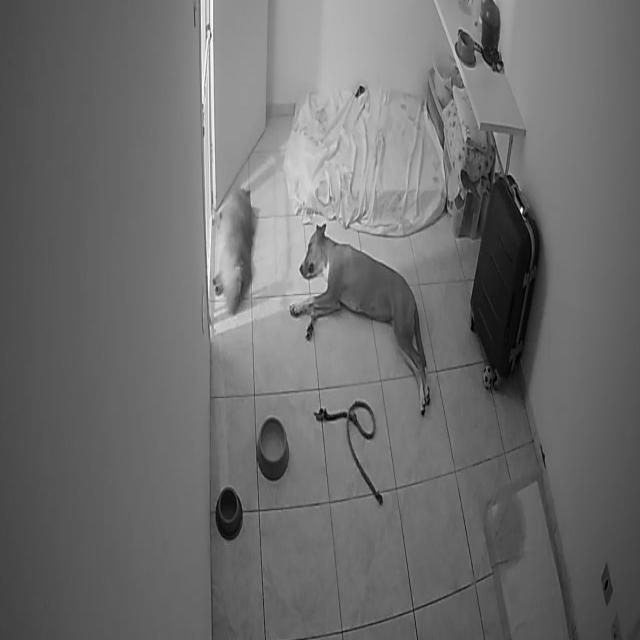laying down: (286, 221, 436, 416), (211, 185, 257, 318)
